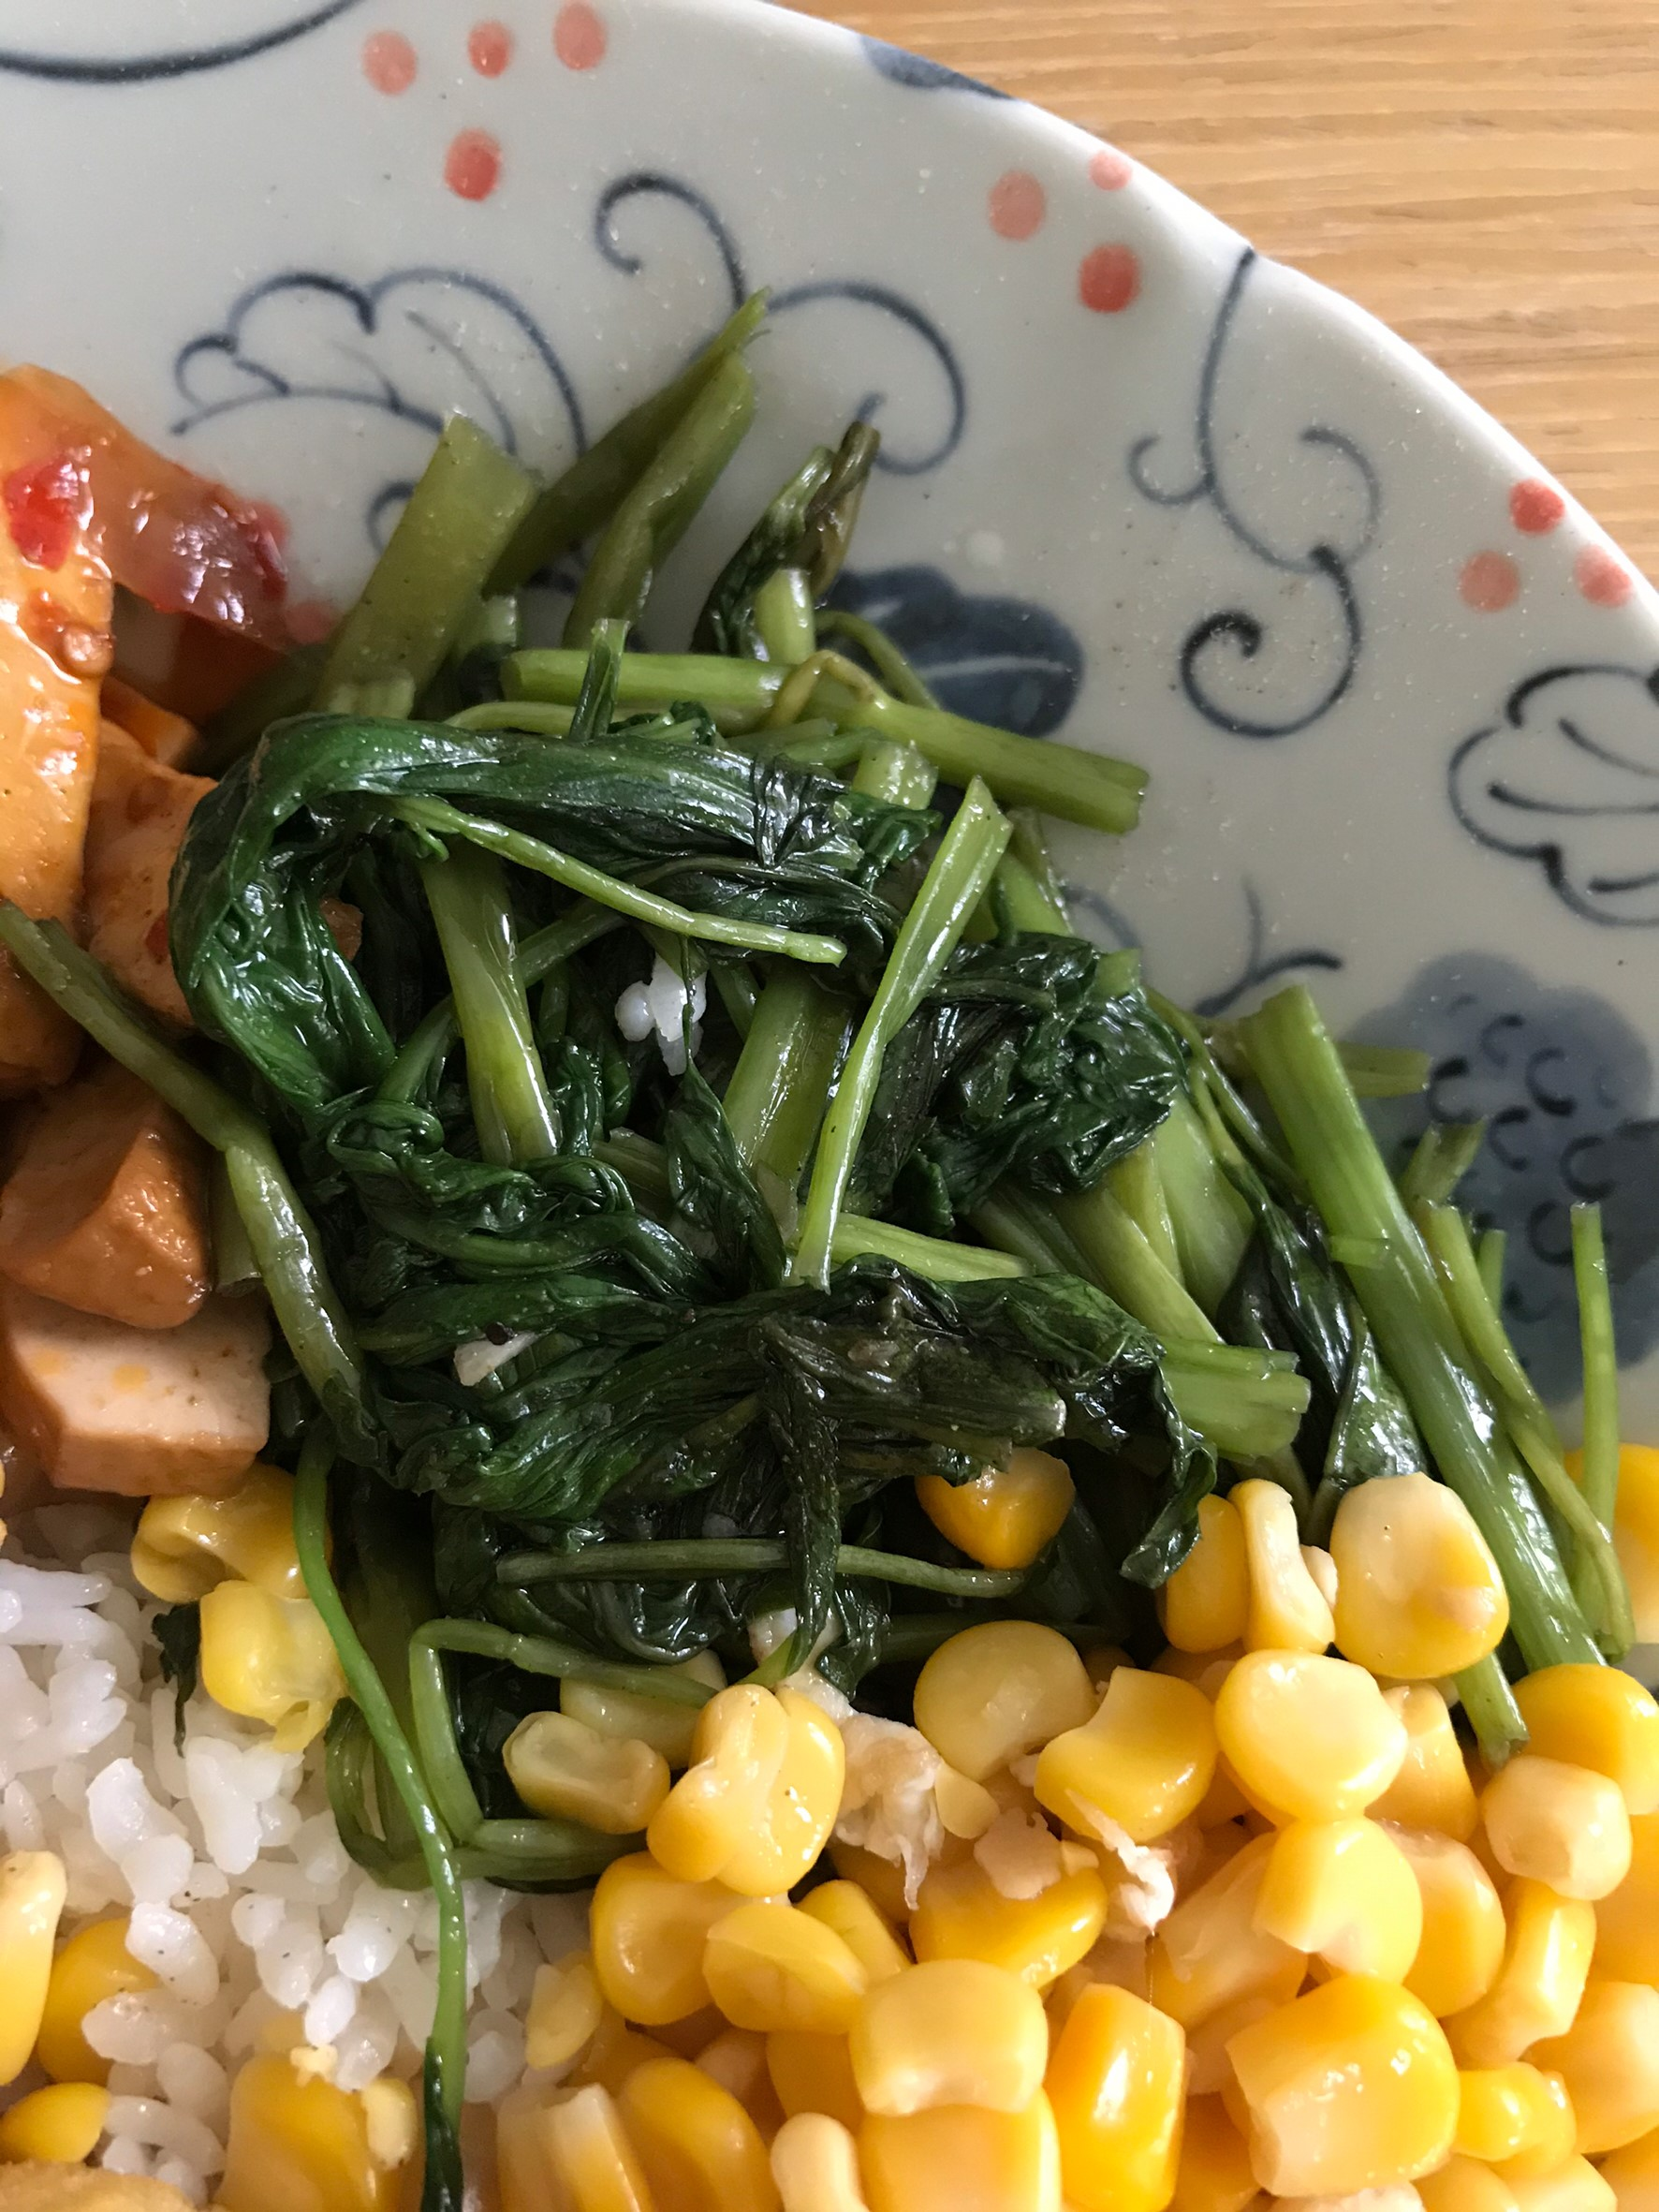water_spinach: (214, 394, 1615, 1834)
